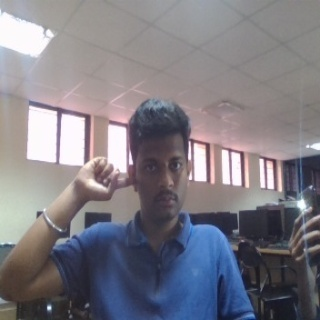Deaf: (71, 156, 135, 204)
Face: (125, 98, 195, 229)
